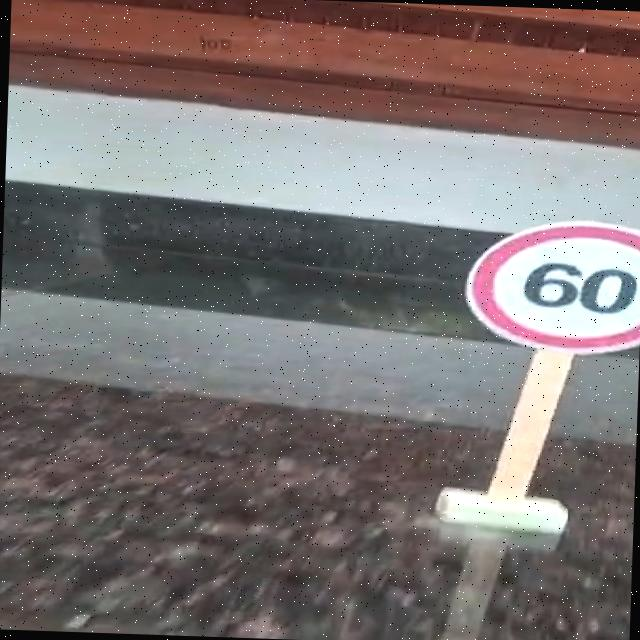Speed60: (445, 208, 640, 360)
